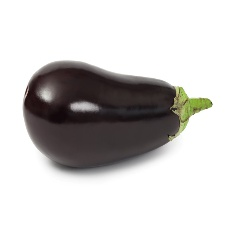eggplant: (21, 59, 192, 171)
